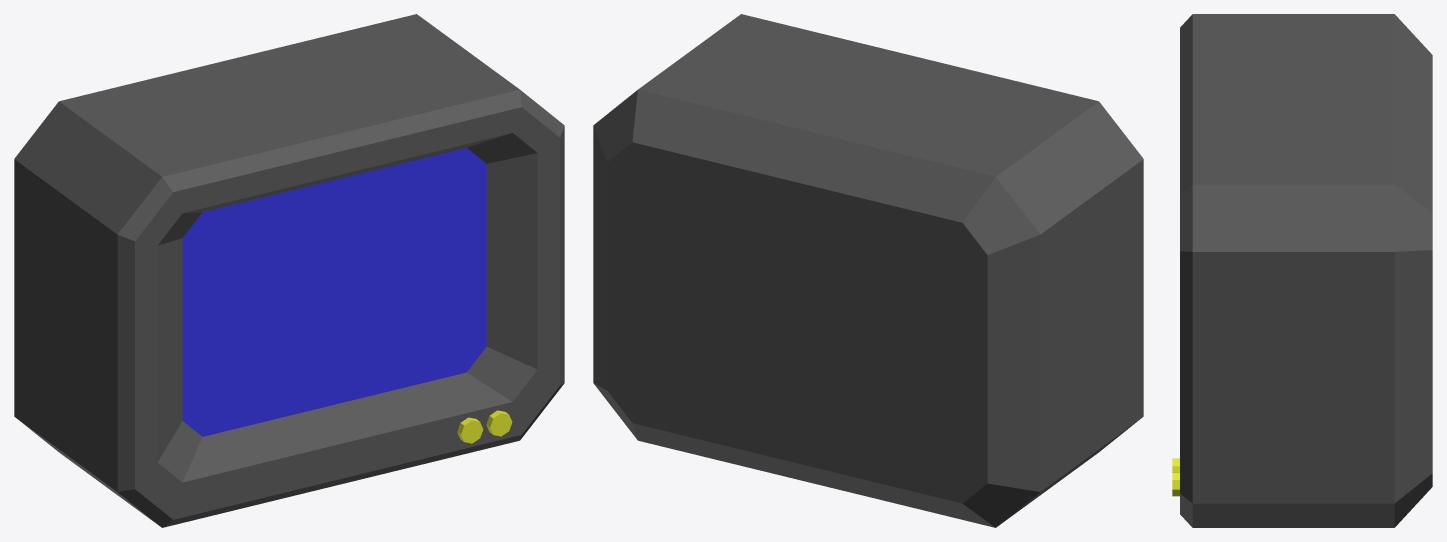
Rendered from monitor.glb.
The picture shows the model from 3 angles, left to right: view 1: azimuth 30°, elevation 25°; view 2: azimuth 150°, elevation 25°; view 3: azimuth 270°, elevation 25°; orthographic projection. The views are drawn at different scales.
Visible parts, largest first — view 1: monitor; view 2: monitor; view 3: monitor.
Part boxes in pixels (box(x1,y1,x2,y2)): monitor: box(14, 14, 564, 527); monitor: box(593, 14, 1143, 527); monitor: box(1172, 14, 1432, 527).
Bounding box in the file's own units: 2 × 1.5 × 1.03.
